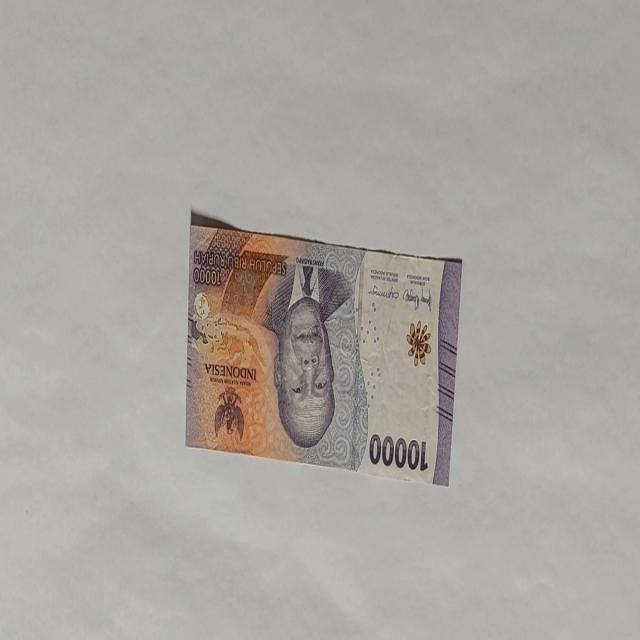sepuluh ribu rupiah: (185, 209, 462, 487), (262, 259, 354, 456)
